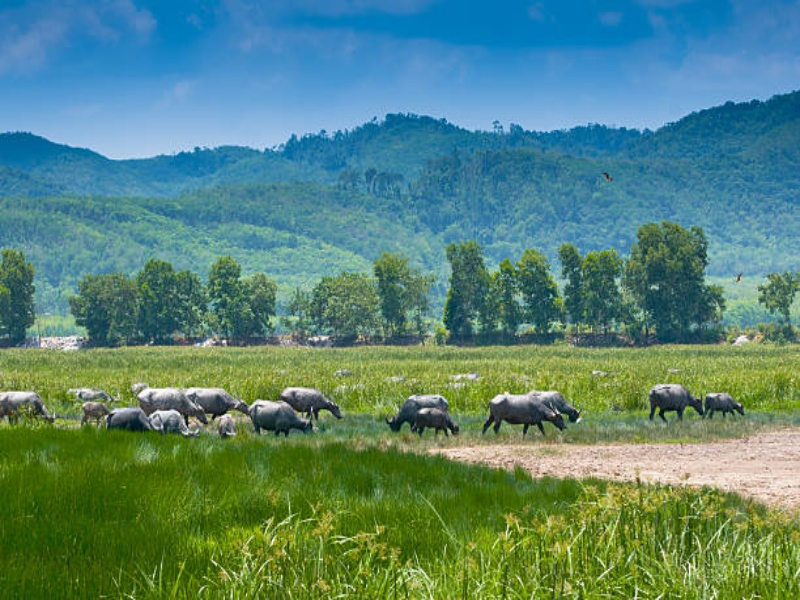buffalo: (10, 368, 752, 445)
